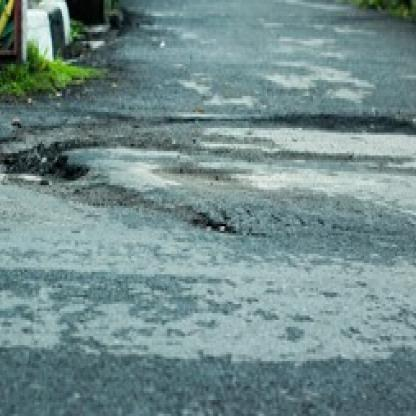pothole: (0, 121, 85, 190), (70, 183, 144, 212), (165, 201, 231, 233)
